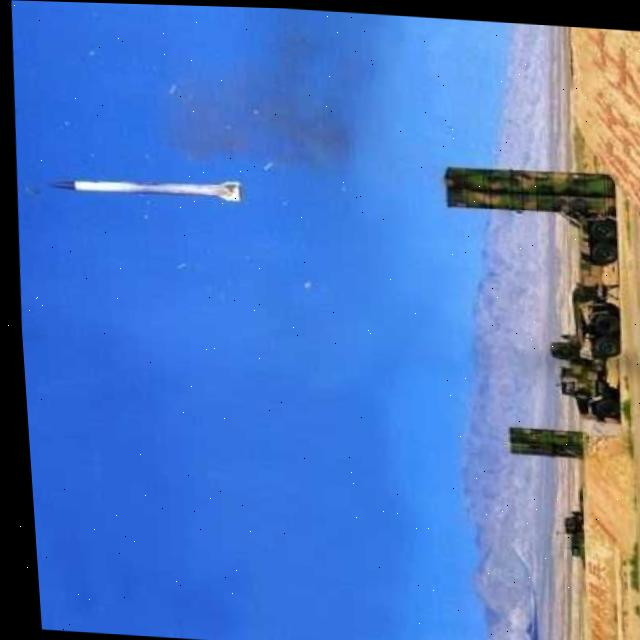missile: (38, 165, 237, 200)
